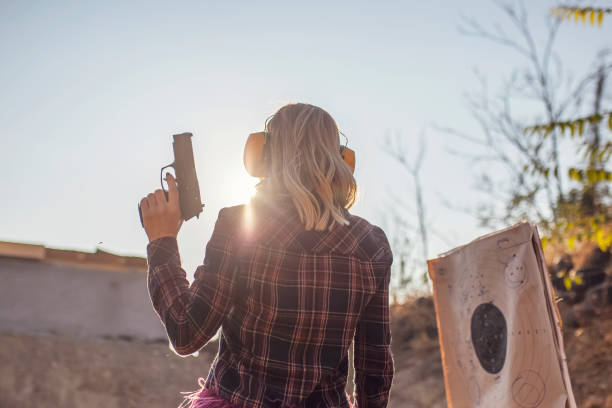gun: (136, 131, 204, 228)
